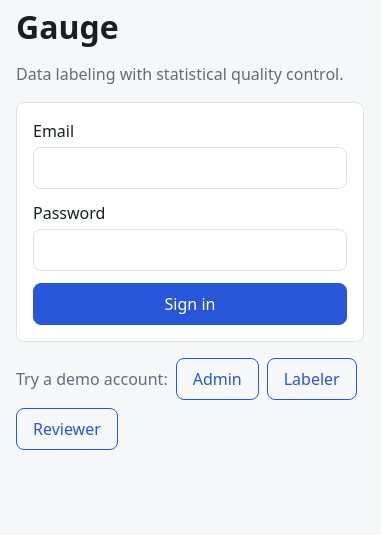
LoginPage › shows the API error on a bad password
The width and height of the screenshot is (381, 535).
Type "a@b.dev" into the field labelled "Email" at x=190, y=168, box [33,147,347,189]
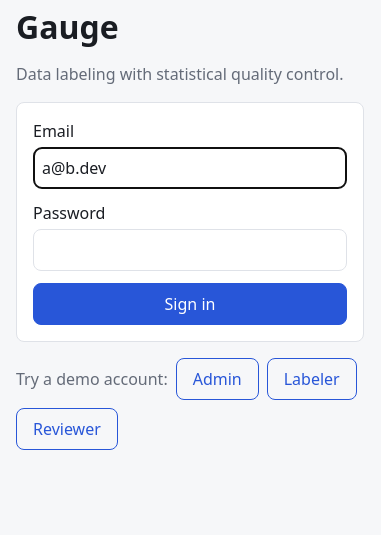
Type "nope" into the password field labelled "Password" at x=190, y=250, box [33,229,347,271]
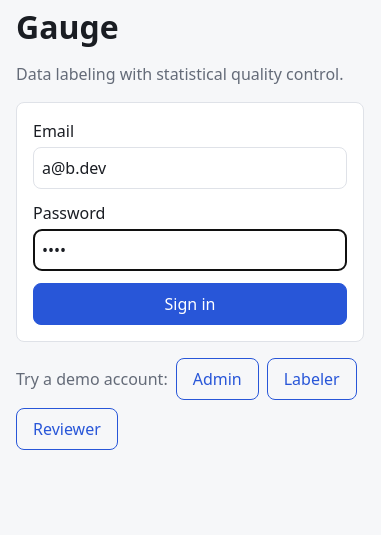
Click the button "Sign in" at x=190, y=304, box [33,283,347,325]
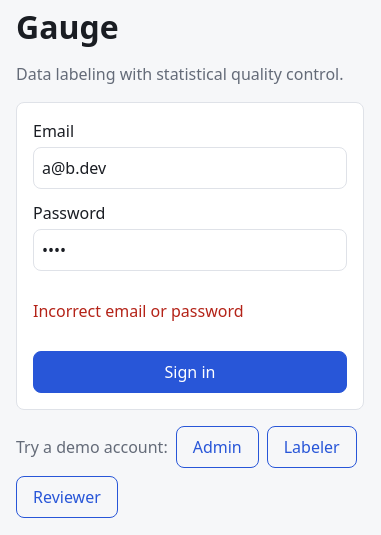
Expected: the message reads "Incorrect email or password", [33,300,244,322]
